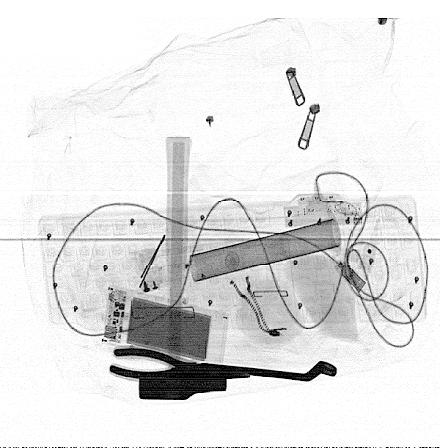Hammer: (139, 137, 227, 401)
Pliers: (108, 346, 252, 382)
Powerbank: (101, 285, 229, 367)
Wrench: (154, 360, 338, 383)
